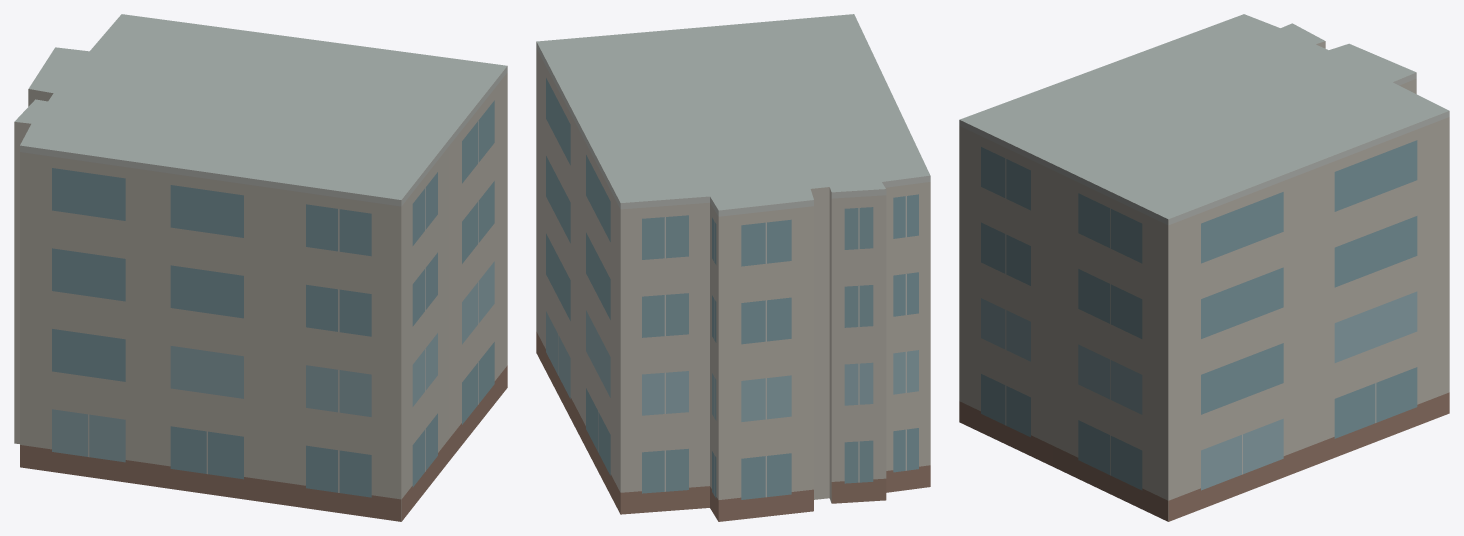
Rendered from survey-upis-32626344.glb.
3 renders of one model, left to right at view 1: azimuth 30°, elevation 25°; view 2: azimuth 150°, elevation 25°; view 3: azimuth 270°, elevation 25°, orthographic. The views are drawn at different scales.
Visible parts, largest first — view 1: survey-upis-32626344.tmp; view 2: survey-upis-32626344.tmp; view 3: survey-upis-32626344.tmp.
Boxes of the visible parts, x1,y1,x2,y2 form: survey-upis-32626344.tmp: (14, 14, 507, 521); survey-upis-32626344.tmp: (536, 14, 930, 521); survey-upis-32626344.tmp: (959, 14, 1449, 521).
Size of the model in its own units: 17.77 by 12.2 by 17.92.
